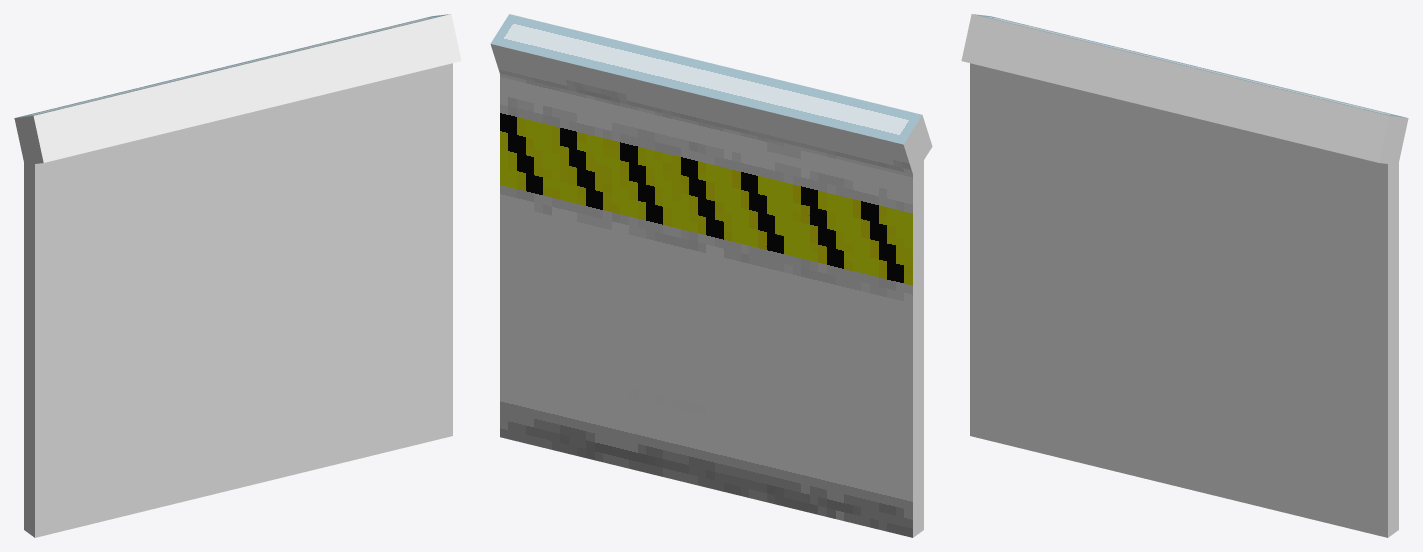
File: Lab_wall4.gltf
3 views of the same model, side by side, from view 1: azimuth 30°, elevation 25°; view 2: azimuth 150°, elevation 25°; view 3: azimuth 330°, elevation 25° (orthographic).
Visible parts, largest first — view 1: Lab_wall4; view 2: Lab_wall4; view 3: Lab_wall4.
Part boxes in pixels (x1,y1,x2,y2): Lab_wall4: (14, 14, 461, 537); Lab_wall4: (490, 14, 932, 537); Lab_wall4: (961, 14, 1408, 537).
Bounding box in the file's own units: 3 × 2.89 × 0.3647.
1 material, 1 textured.
